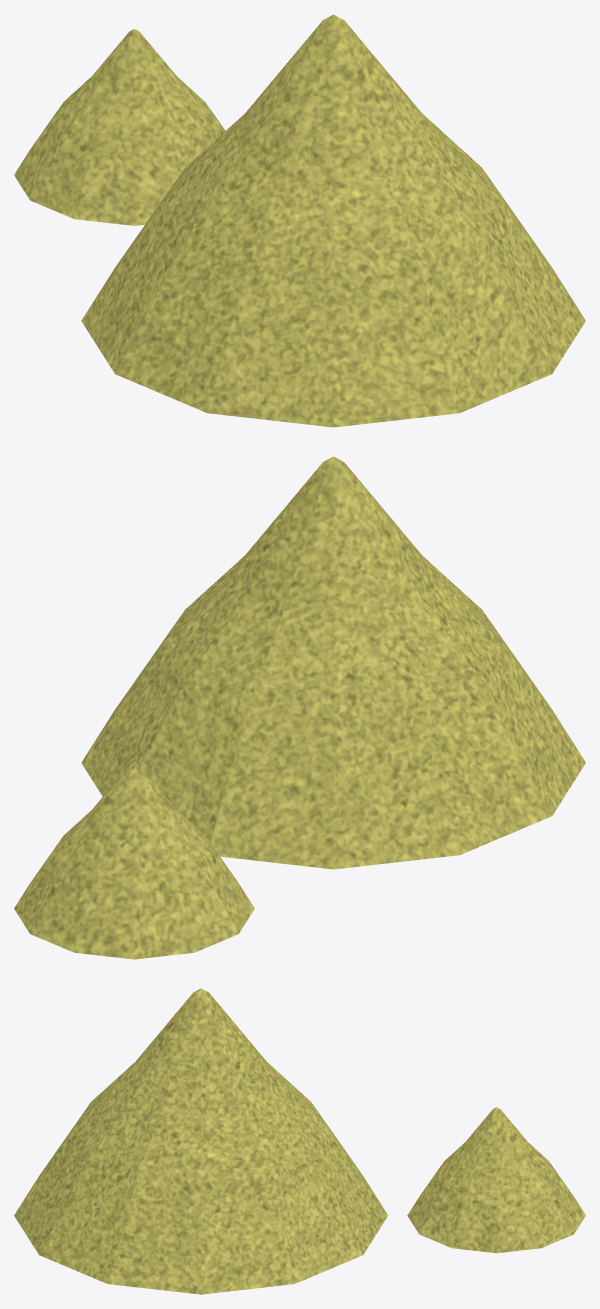
Rendered from sumer_barley_pile.glb.
3 views of the same model, one above another, from view 1: azimuth 30°, elevation 25°; view 2: azimuth 150°, elevation 25°; view 3: azimuth 270°, elevation 25° (orthographic). The views are drawn at different scales.
Parts seen in each view (by area): view 1: barley_pile; view 2: barley_pile; view 3: barley_pile.
Part boxes in pixels (<box>): barley_pile: <box>14,14,585,427</box>; barley_pile: <box>14,456,585,959</box>; barley_pile: <box>14,988,585,1294</box>.
Bounding box in the file's own units: 11.35 × 7.6 × 17.34.
Materials: 1 (1 with a texture image).
